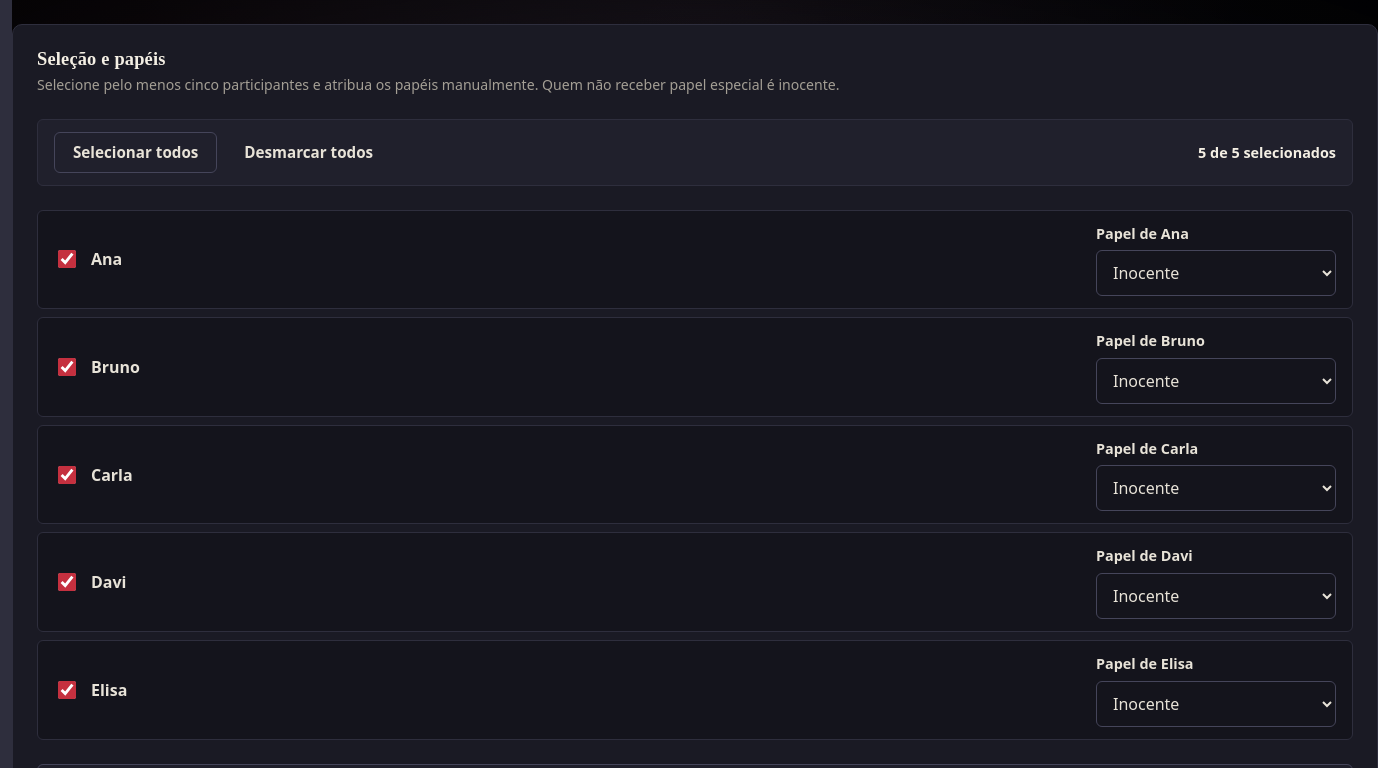
Scenario: Configuração da partida (integração) › desmarca e seleciona todos com bloqueios recalculados
The image size is (1378, 768).
expect the text "5 de 5 selecionados" is shown: met, box 1198,142 -> 1336,163
Click the button "Desmarcar todos".
click(309, 152)  # box 225,132 -> 392,172
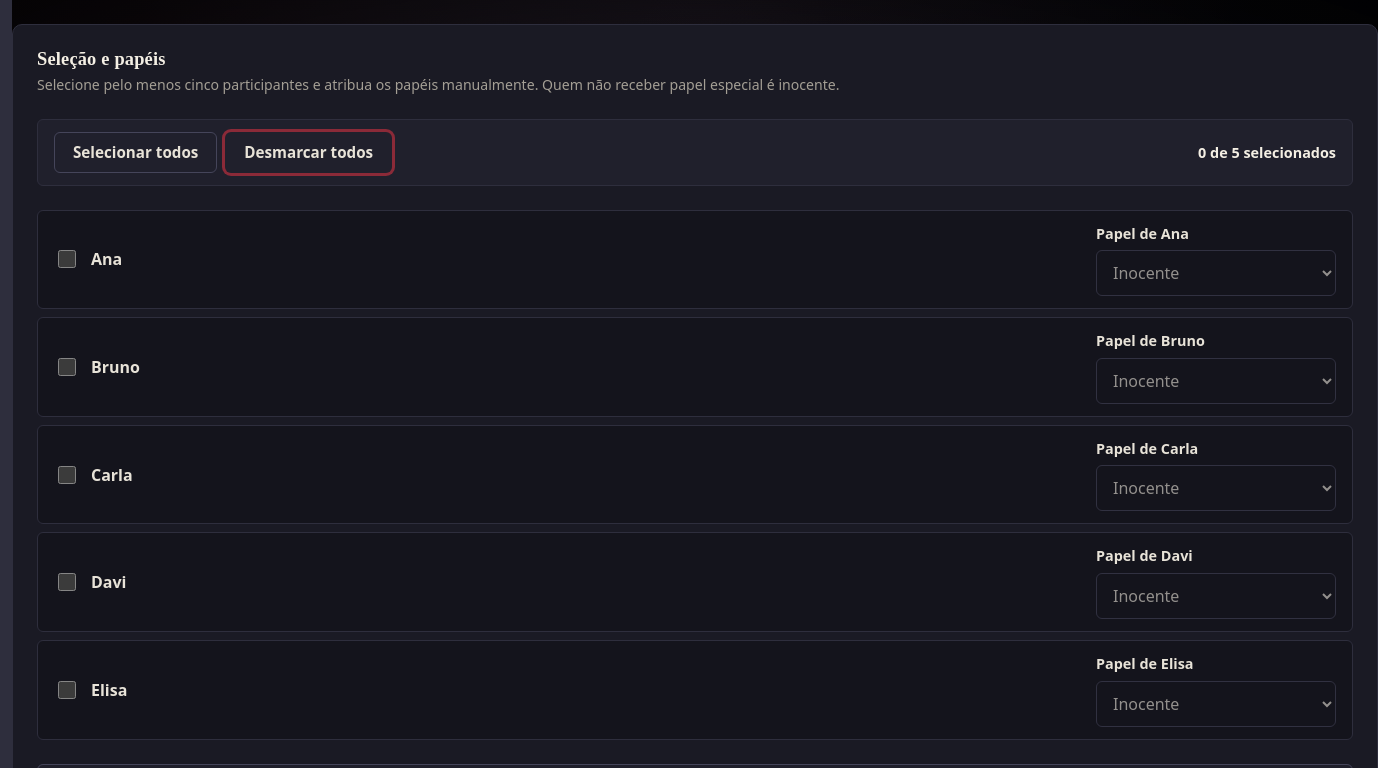
expect the text "0 de 5 selecionados" is shown: met, box 1198,142 -> 1336,163
Click the button "Selecionar todos".
click(136, 152)  # box 54,132 -> 217,172
(page scrolled)
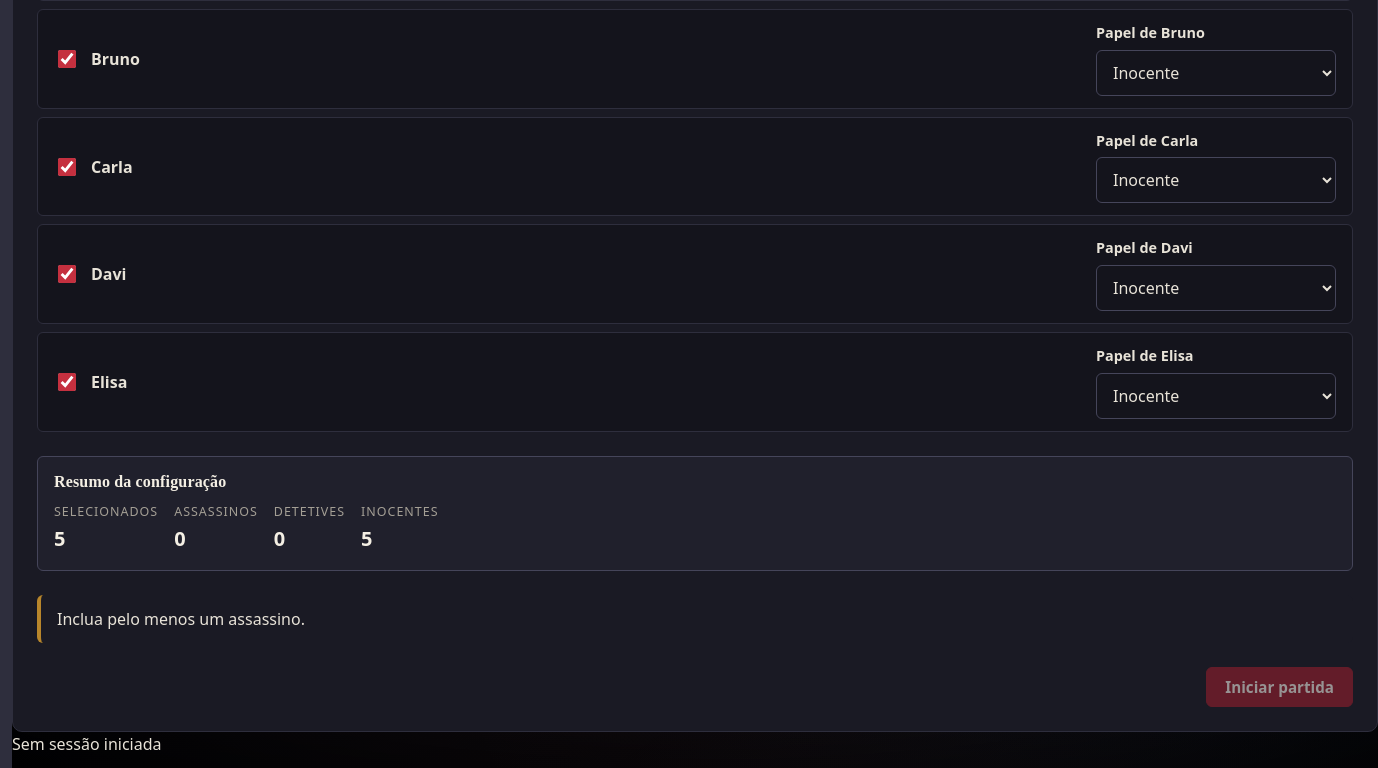
expect the text "Inclua pelo menos um assassino." is shown: met, box 37,595 -> 1353,643
